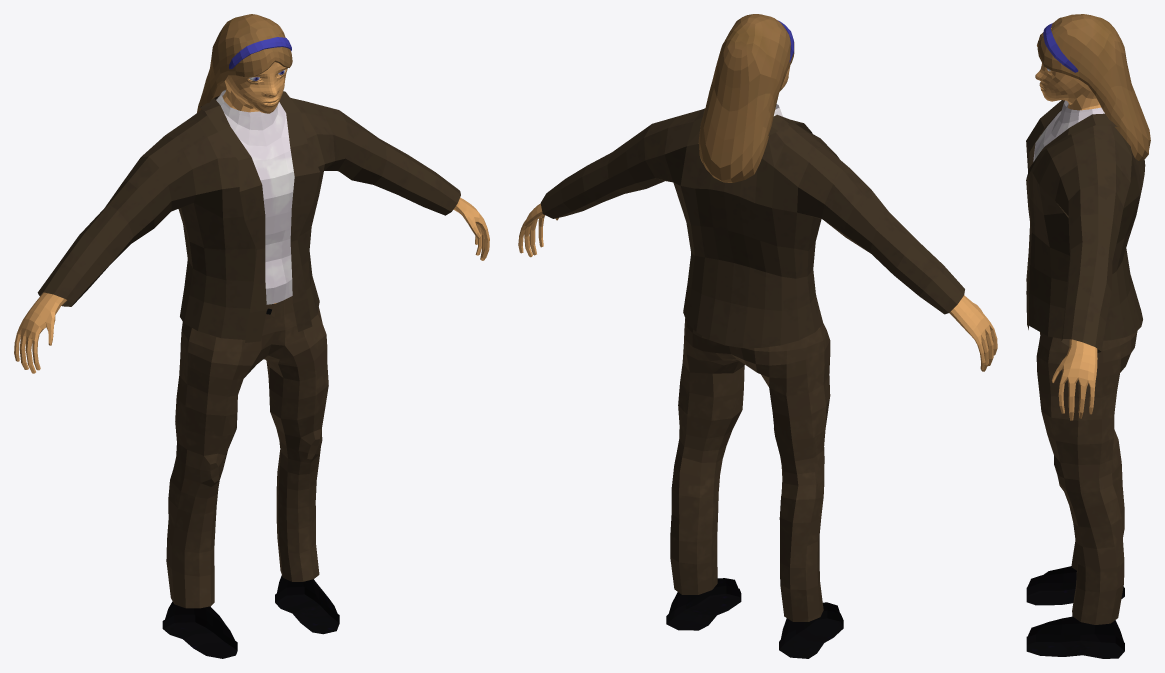
Rendered from Fish Cola Fixed.glb.
3 views of the same model, side by side, from view 1: azimuth 30°, elevation 25°; view 2: azimuth 150°, elevation 25°; view 3: azimuth 270°, elevation 25° (orthographic).
Parts seen in each view (by area): view 1: Main Character VIP.002; view 2: Main Character VIP.002; view 3: Main Character VIP.002.
Part boxes in pixels (box(x1,y1,x2,y2)): Main Character VIP.002: box(14, 14, 489, 658); Main Character VIP.002: box(518, 14, 997, 658); Main Character VIP.002: box(1026, 14, 1150, 658).
Size of the model in its own units: 147 by 184 by 34.13.
1 material, 1 textured.
